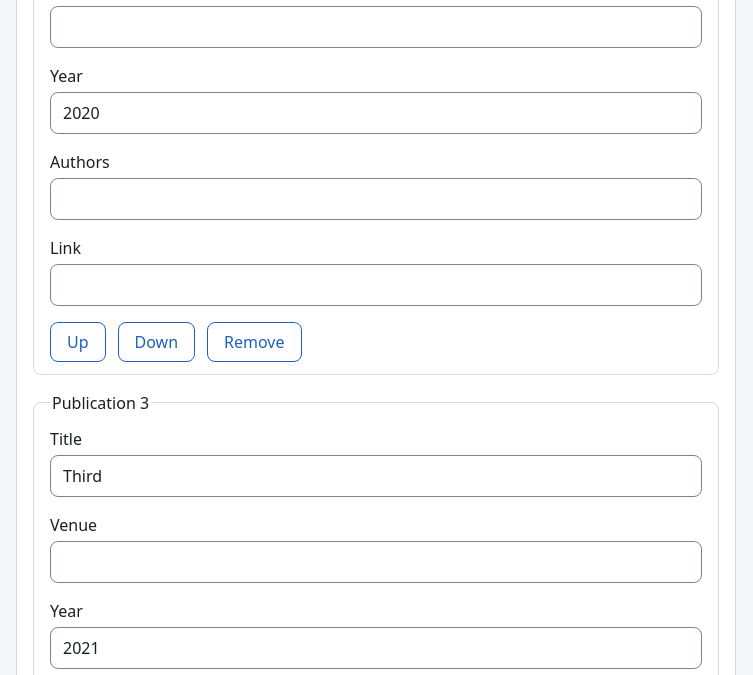
Scenario: publications › moves and removes publications
(page scrolled)
Click the button with aria-label "Move Publication 2 up": (78, 342) [50,322,106,362]
(page scrolled)
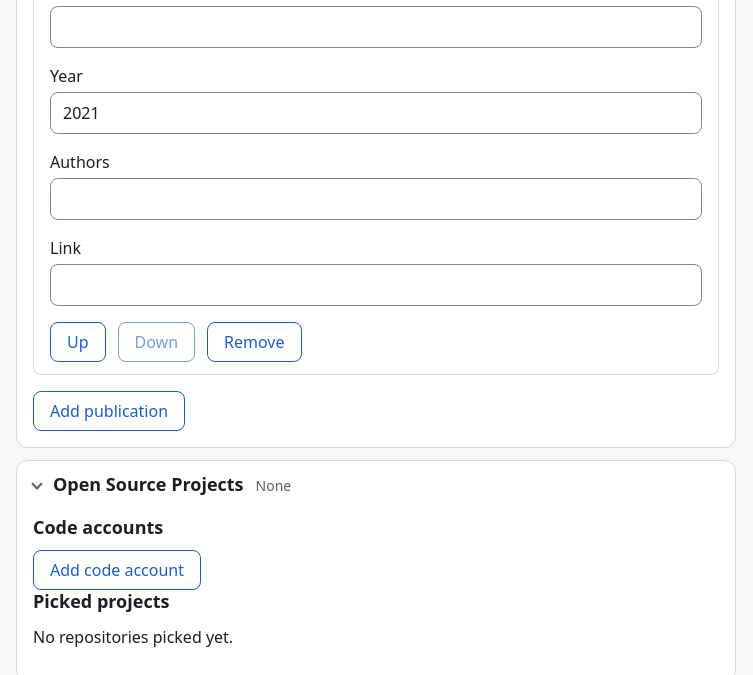
Click the button with aria-label "Remove Publication 3": (254, 342) [207,322,302,362]
(page scrolled)
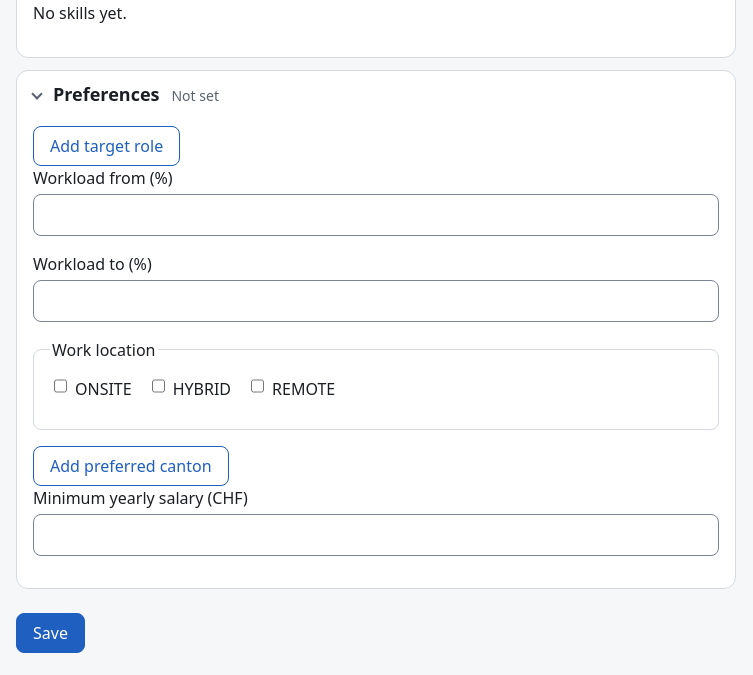
Click the button "Save": (50, 632) [16,612,85,652]
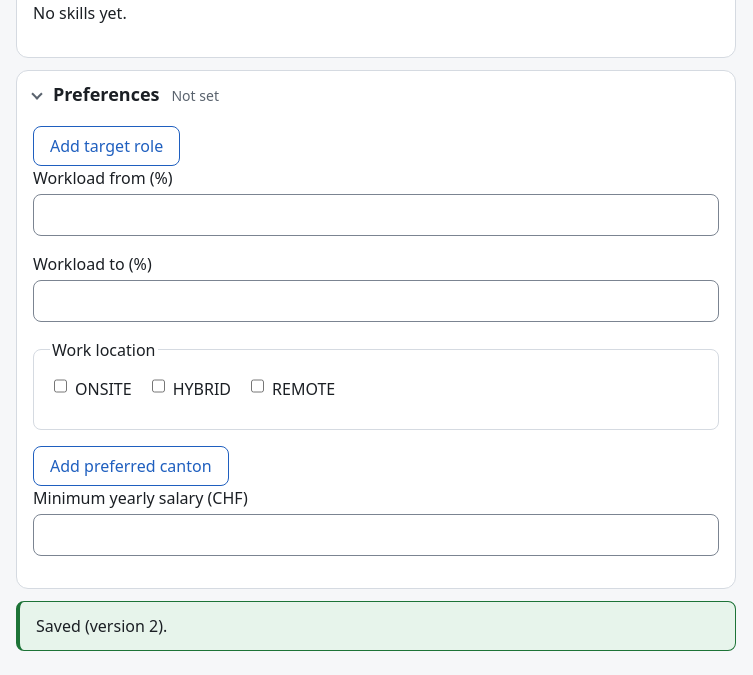
expect the text "Saved (version 2)." is shown: met, box [36,614,167,636]
